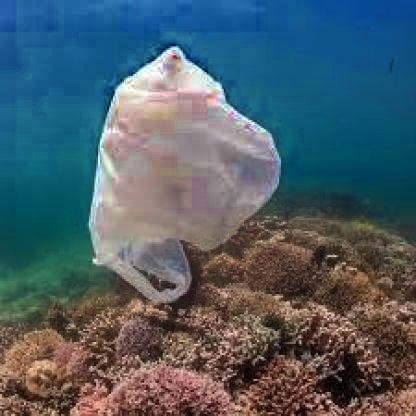pbag: (85, 44, 283, 304)
